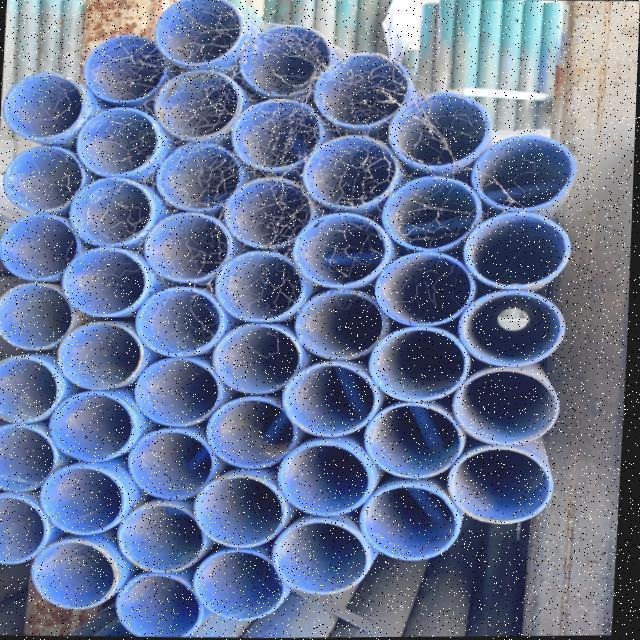pipe: (455, 364, 566, 445), (449, 439, 556, 523), (391, 83, 491, 167), (470, 209, 574, 286), (367, 401, 471, 477), (365, 484, 469, 560), (477, 132, 577, 211), (281, 515, 380, 593), (302, 130, 402, 207), (199, 543, 296, 622), (467, 291, 571, 364), (370, 326, 472, 400), (286, 358, 384, 435), (195, 473, 293, 549), (295, 210, 394, 285), (284, 436, 378, 514), (313, 50, 410, 125), (375, 252, 476, 324), (242, 21, 334, 100), (385, 175, 480, 250), (122, 499, 214, 573), (237, 99, 330, 171), (212, 397, 304, 468), (51, 389, 142, 460), (228, 178, 320, 248), (301, 289, 391, 360), (215, 322, 305, 393), (159, 68, 246, 141), (144, 209, 234, 278), (134, 427, 220, 499), (223, 250, 310, 321), (142, 284, 229, 355), (60, 318, 147, 389), (140, 356, 228, 426), (64, 250, 153, 318), (46, 463, 130, 535), (155, 139, 243, 207), (73, 176, 158, 245), (82, 34, 168, 102), (124, 569, 213, 634), (4, 143, 86, 213), (79, 105, 162, 174), (155, 0, 247, 62), (39, 539, 120, 608), (2, 69, 84, 136), (2, 210, 82, 276), (0, 281, 74, 347), (0, 351, 62, 420), (0, 421, 59, 492), (0, 494, 50, 564)
